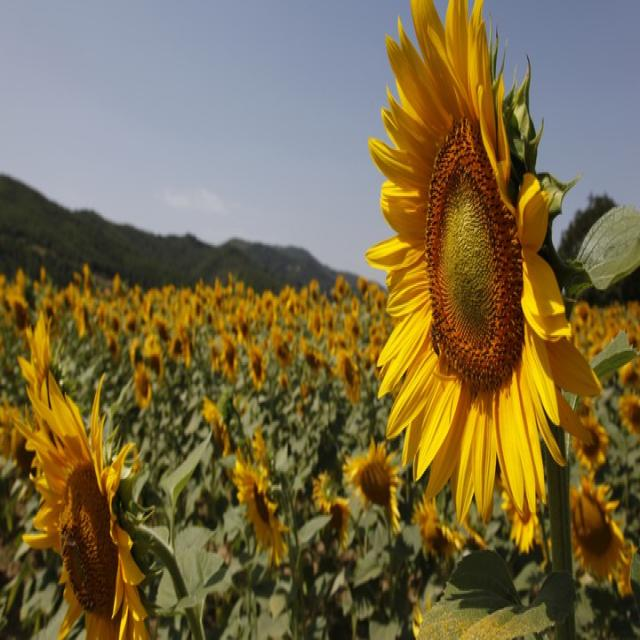sunflower: (347, 0, 589, 570), (16, 333, 157, 640), (566, 472, 636, 600), (232, 446, 285, 573), (574, 409, 613, 478), (328, 341, 362, 402), (211, 334, 242, 379), (132, 362, 156, 409), (244, 343, 266, 389), (310, 306, 326, 339)
